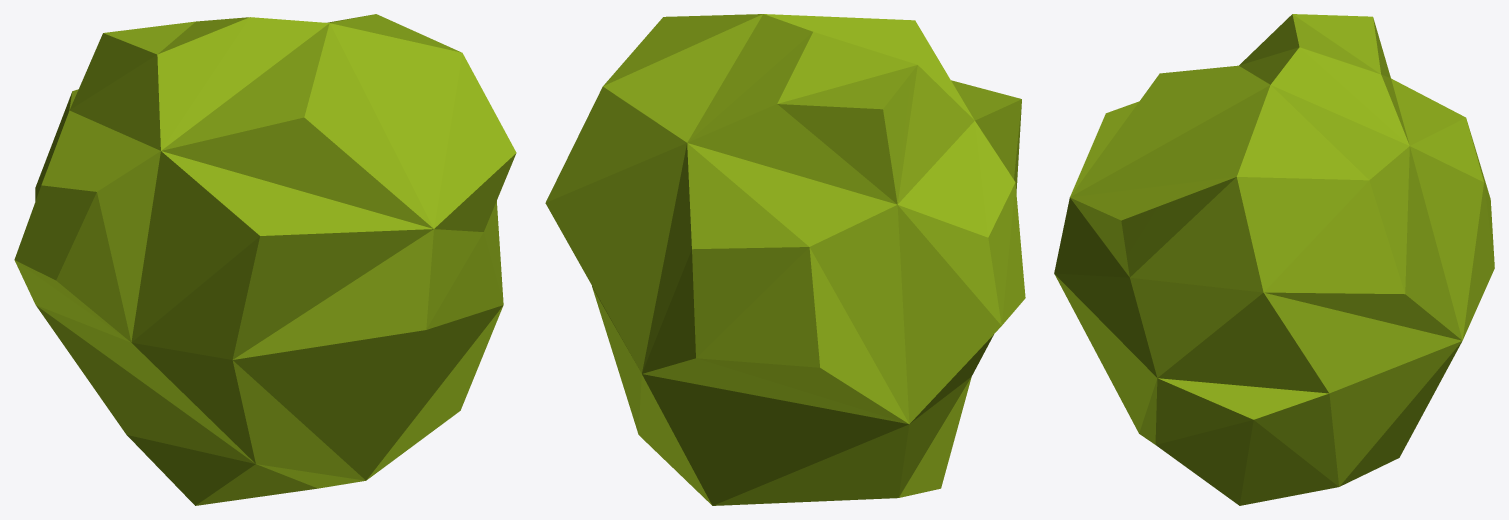
The model's file is Vegetation_Modular_Tree_Foliage_Clump_Large_09.fbx.
3 renders of one model, left to right at view 1: azimuth 30°, elevation 25°; view 2: azimuth 150°, elevation 25°; view 3: azimuth 270°, elevation 25°, orthographic. The views are drawn at different scales.
Parts seen in each view (by area): view 1: Vegetation_Modular_Tree_Foliage_Clump_Large_09; view 2: Vegetation_Modular_Tree_Foliage_Clump_Large_09; view 3: Vegetation_Modular_Tree_Foliage_Clump_Large_09.
Part boxes in pixels (x1,y1,x2,y2): Vegetation_Modular_Tree_Foliage_Clump_Large_09: [14, 14, 516, 505]; Vegetation_Modular_Tree_Foliage_Clump_Large_09: [545, 14, 1025, 505]; Vegetation_Modular_Tree_Foliage_Clump_Large_09: [1054, 14, 1494, 505].
Size of the model in its own units: 2393 by 2428 by 2304.
